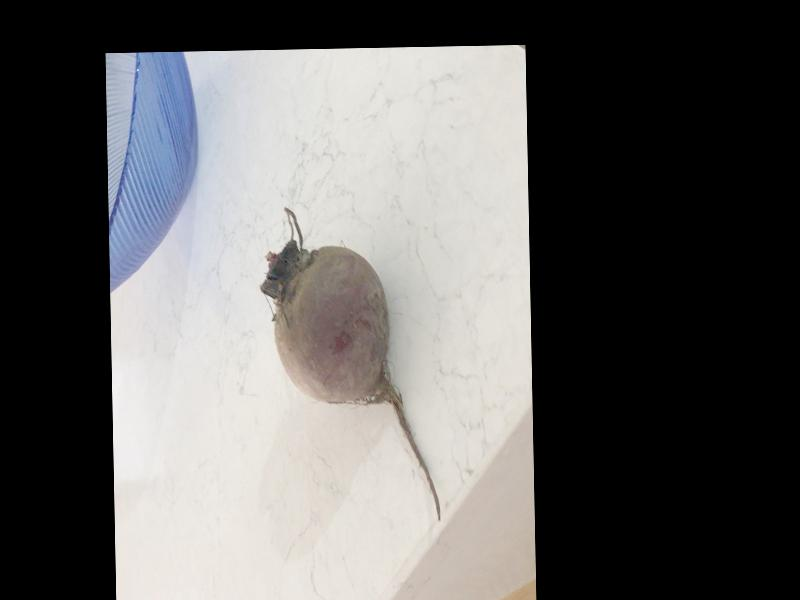Beet: (259, 206, 441, 522)
